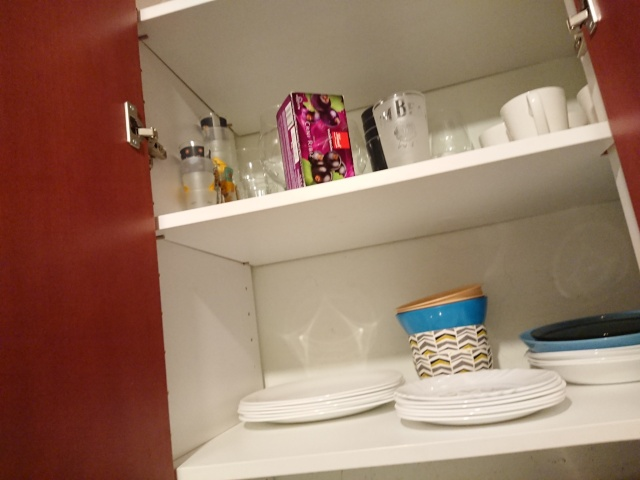Franck Black Currant Tea 60g: (274, 90, 359, 193)
